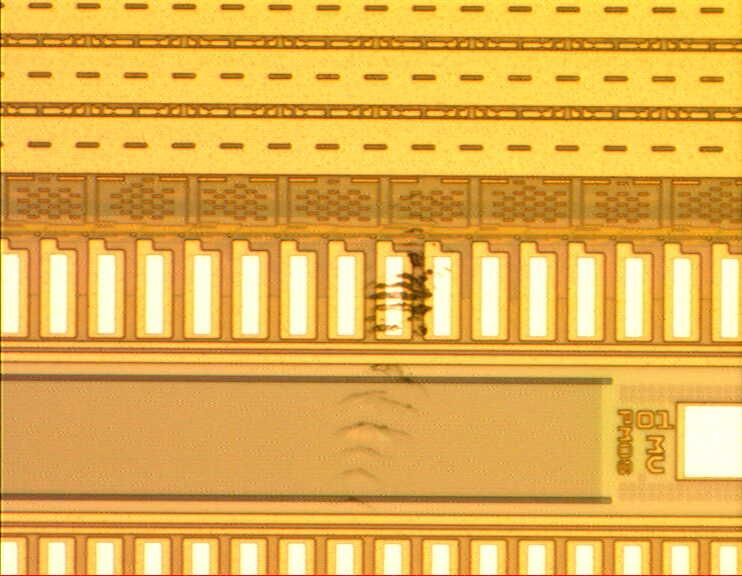SCRATCH: (331, 205, 440, 566)
